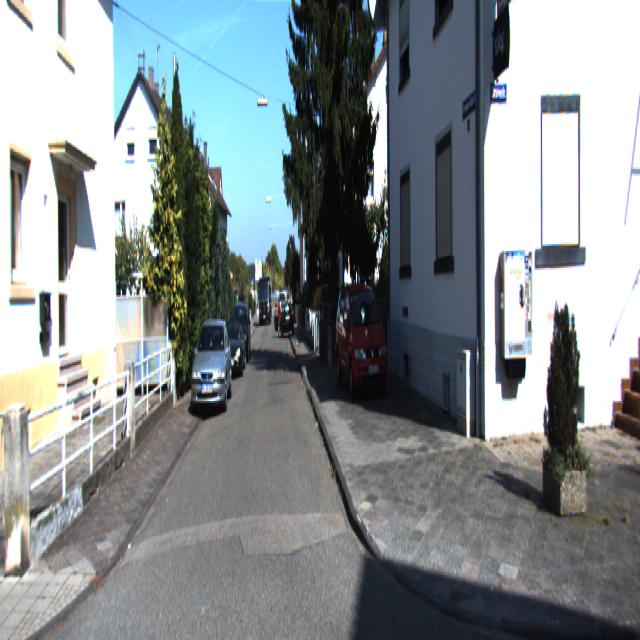Car: (334, 279, 388, 407), (192, 318, 232, 421), (219, 320, 245, 382)
DontCare: (275, 288, 294, 334)
